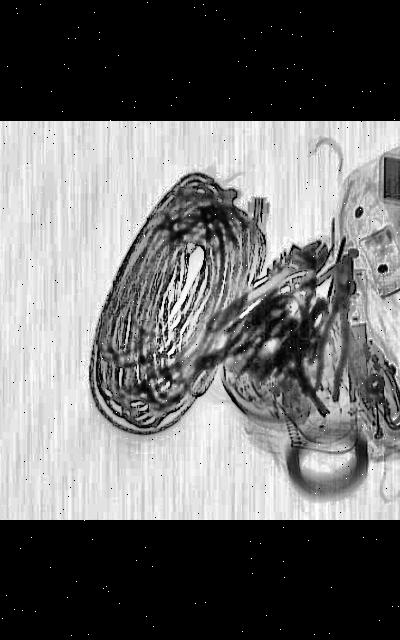Pliers: (306, 253, 362, 402)
Wrench: (188, 232, 340, 342)
